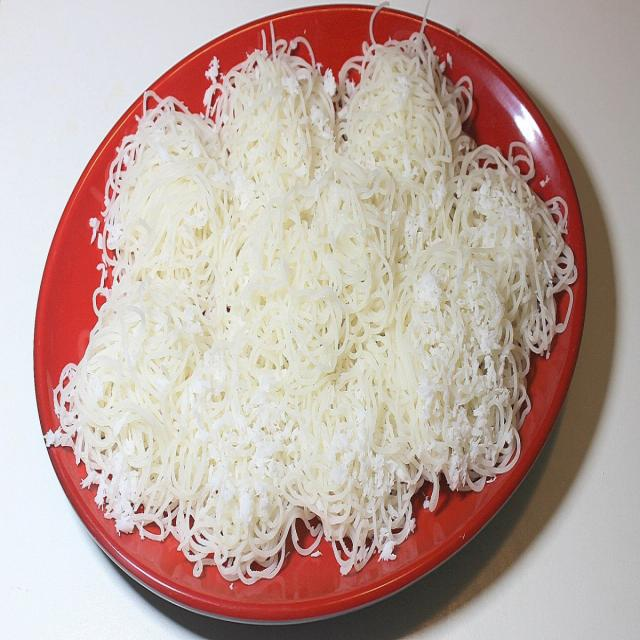IDIYAPPAM: (63, 30, 578, 585)
